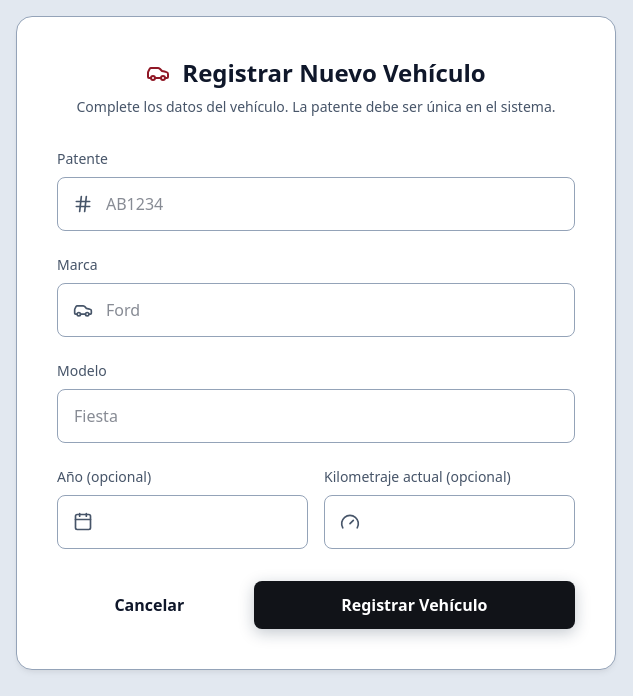
Test case: ClientVehicleFormPage: errores reales del backend al registrar › muestra el mensaje real de MS2 cuando la patente ya está registrada (409)
Type "ZZZZ11" into the field labelled "Patente" at (316, 204), box [57, 177, 575, 231]
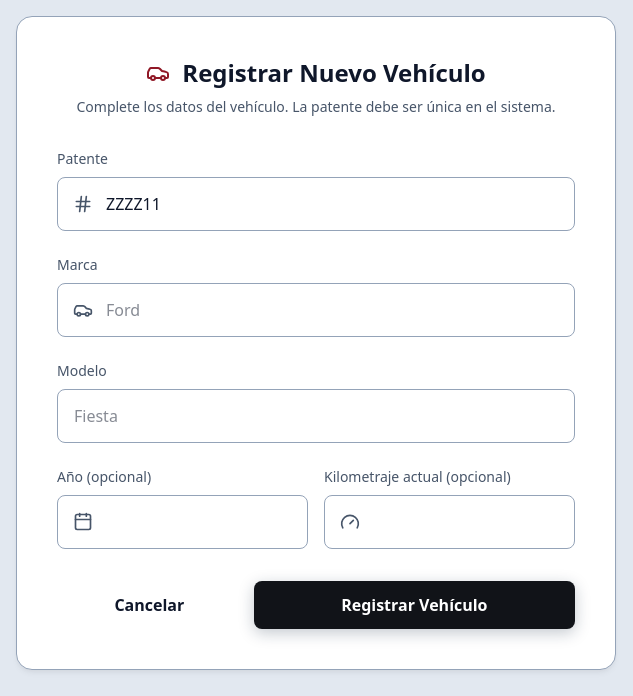
Type "Toyota" into the field labelled "Marca" at (316, 310), box [57, 283, 575, 337]
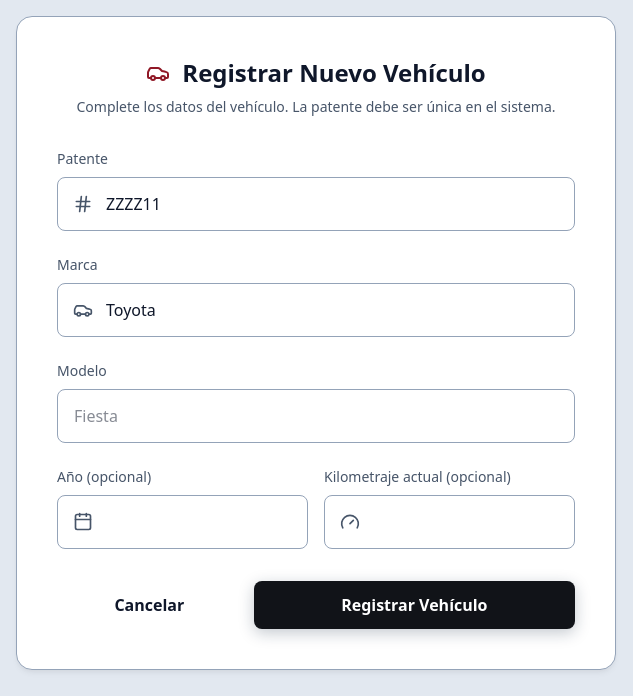
Type "Corolla" into the field labelled "Modelo" at (316, 416), box [57, 389, 575, 443]
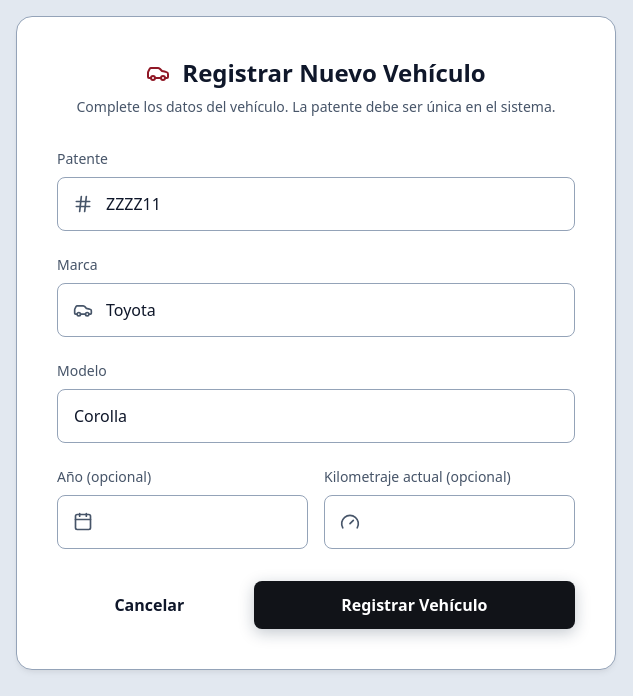
Type "2018" into the number field labelled "Año (opcional)" at (182, 522), box [57, 495, 308, 549]
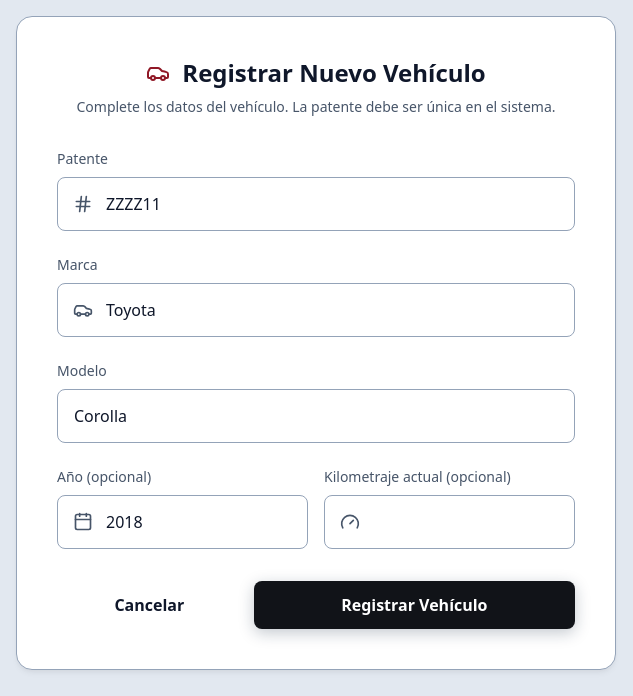
Type "45000" into the number field labelled "Kilometraje actual (opcional)" at (450, 522), box [324, 495, 575, 549]
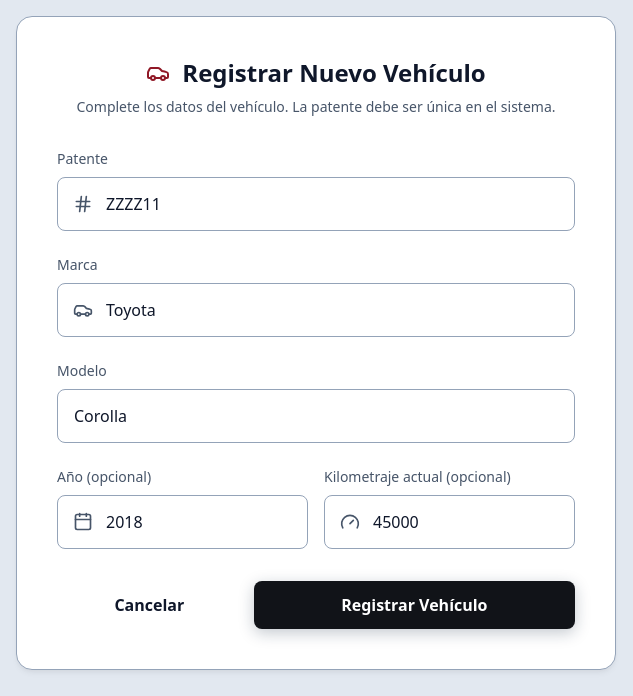
Click the button "Registrar Vehículo" at (414, 605), box [254, 581, 575, 629]
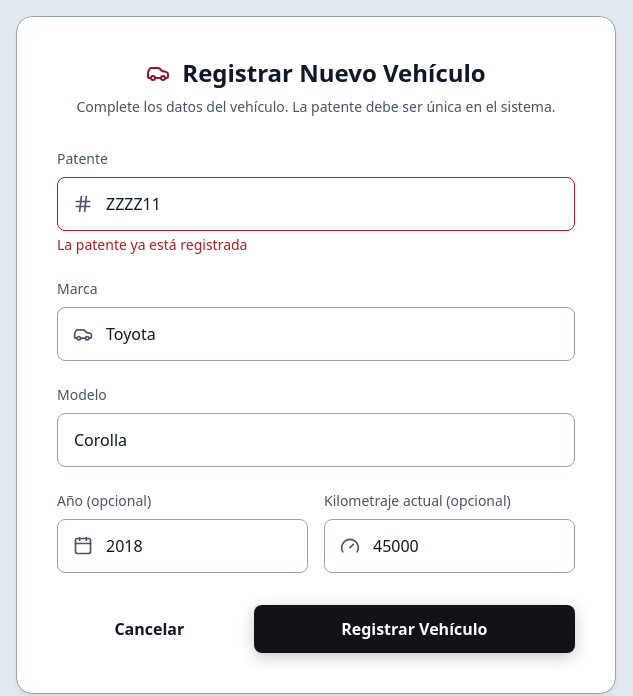
Check: the text "La patente ya está registrada" is shown, box [57, 235, 248, 254]
